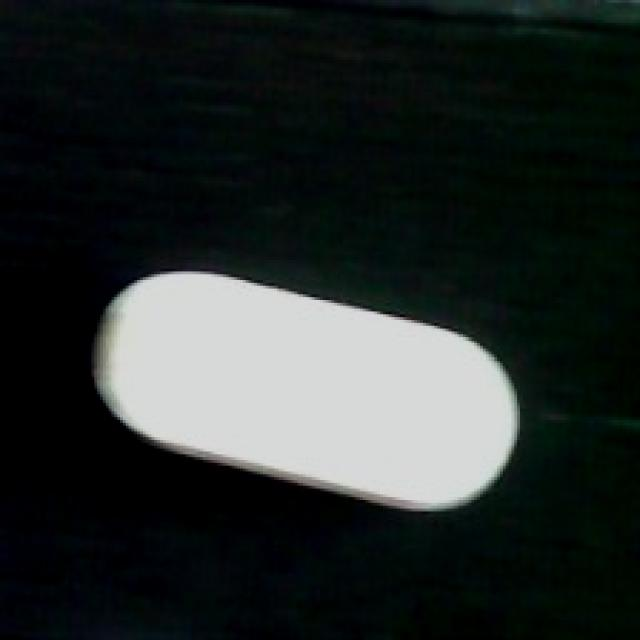no-defect: (91, 266, 526, 516)
